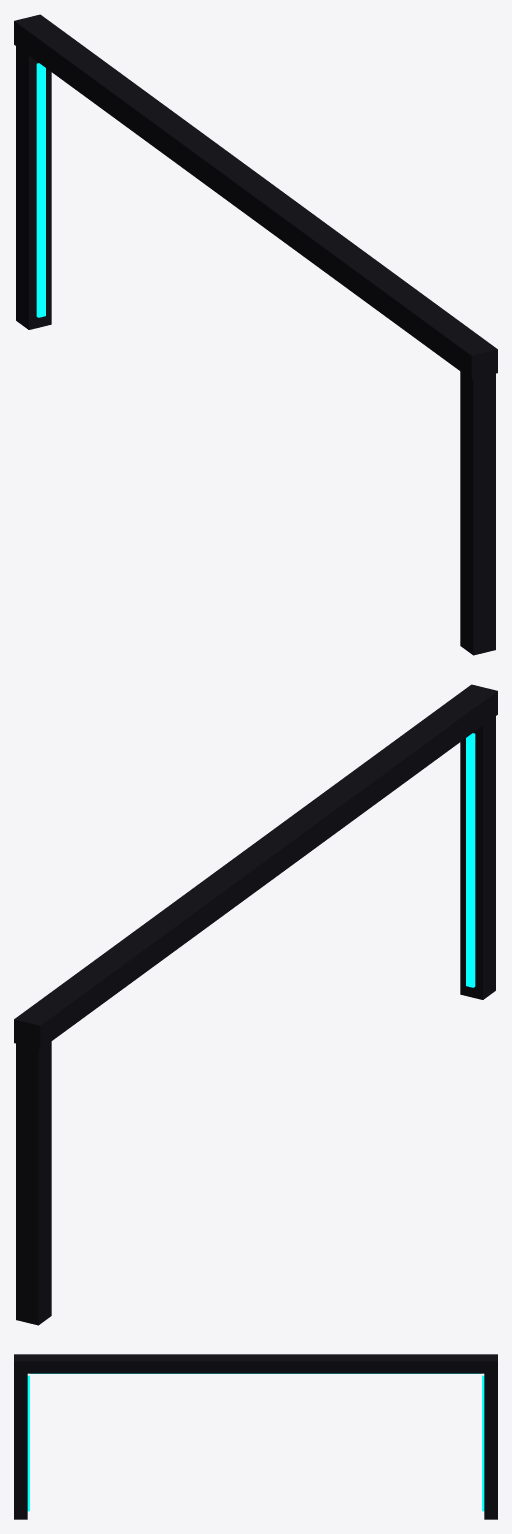
Rendered from SM_Checkpoint_Arch.fbx.
3 renders of one model, top to bottom at view 1: azimuth 30°, elevation 25°; view 2: azimuth 150°, elevation 25°; view 3: azimuth 270°, elevation 25°, orthographic. The views are drawn at different scales.
Visible parts, largest first — view 1: SM_Checkpoint_Arch; view 2: SM_Checkpoint_Arch; view 3: SM_Checkpoint_Arch.
Part boxes in pixels (<box>): SM_Checkpoint_Arch: <box>14,14,497,655</box>; SM_Checkpoint_Arch: <box>14,684,497,1325</box>; SM_Checkpoint_Arch: <box>14,1354,497,1519</box>.
Size of the model in its own units: 70 by 760 by 2100.
